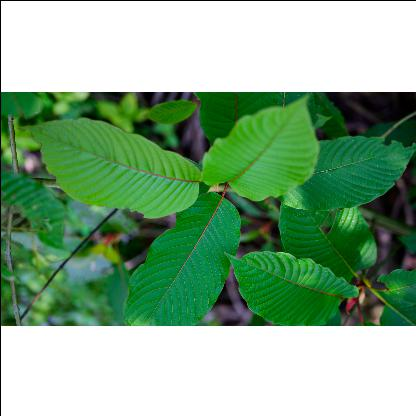kratom-red: (21, 116, 209, 220), (118, 190, 248, 326), (219, 238, 365, 326), (198, 100, 330, 194)
